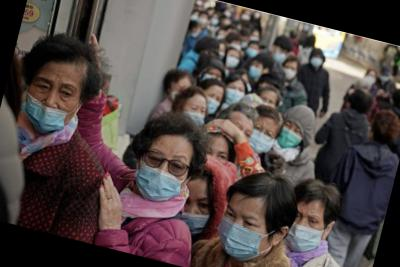mask_weared_incorrect: (19, 72, 85, 141)
with_mask: (130, 143, 194, 209), (214, 201, 276, 266), (284, 207, 330, 257), (177, 190, 215, 238), (246, 121, 280, 158), (274, 118, 308, 153), (222, 81, 250, 109), (200, 90, 224, 117), (247, 60, 266, 80), (282, 64, 300, 83), (224, 51, 242, 70), (273, 49, 289, 64), (247, 45, 262, 60), (310, 56, 326, 69), (380, 74, 392, 85)
